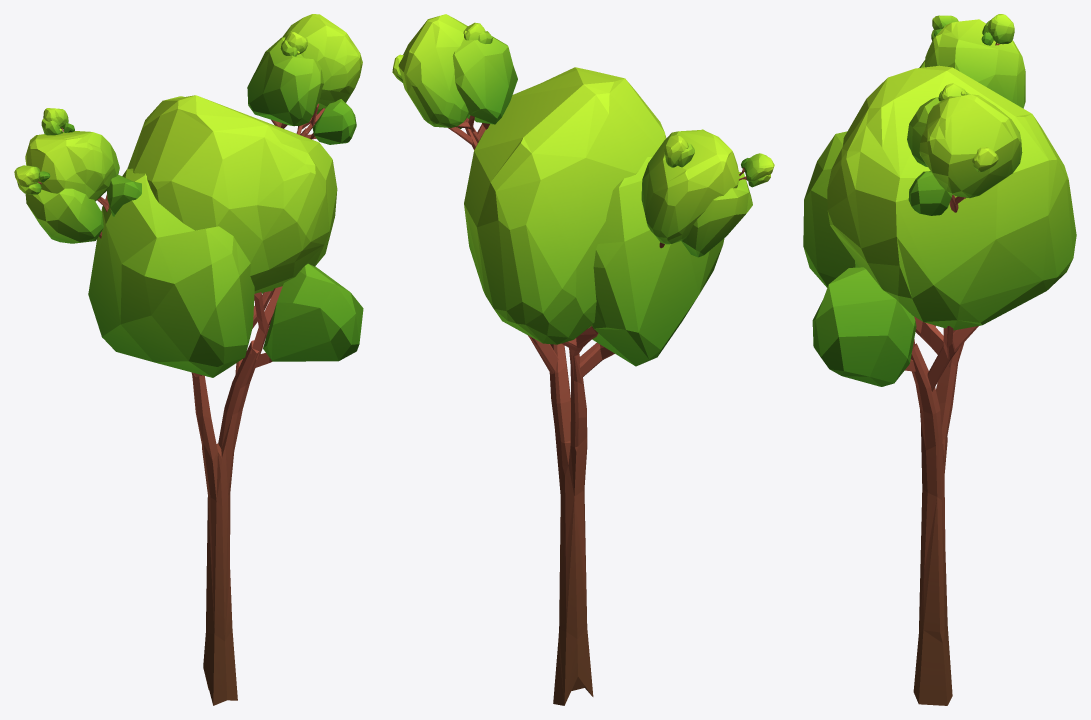
Rendered from samor_4077_133_FractalAncient.fbx.
3 renders of one model, left to right at view 1: azimuth 30°, elevation 25°; view 2: azimuth 150°, elevation 25°; view 3: azimuth 270°, elevation 25°, orthographic. The views are drawn at different scales.
Parts seen in each view (by area): view 1: samor_4077_133_FractalAncient; view 2: samor_4077_133_FractalAncient; view 3: samor_4077_133_FractalAncient.
Boxes of the visible parts, x1,y1,x2,y2 form: samor_4077_133_FractalAncient: [14, 14, 363, 705]; samor_4077_133_FractalAncient: [392, 14, 774, 705]; samor_4077_133_FractalAncient: [803, 14, 1076, 705].
Size of the model in its own units: 14.64 by 25.77 by 9.65.
1 material, 1 textured.
